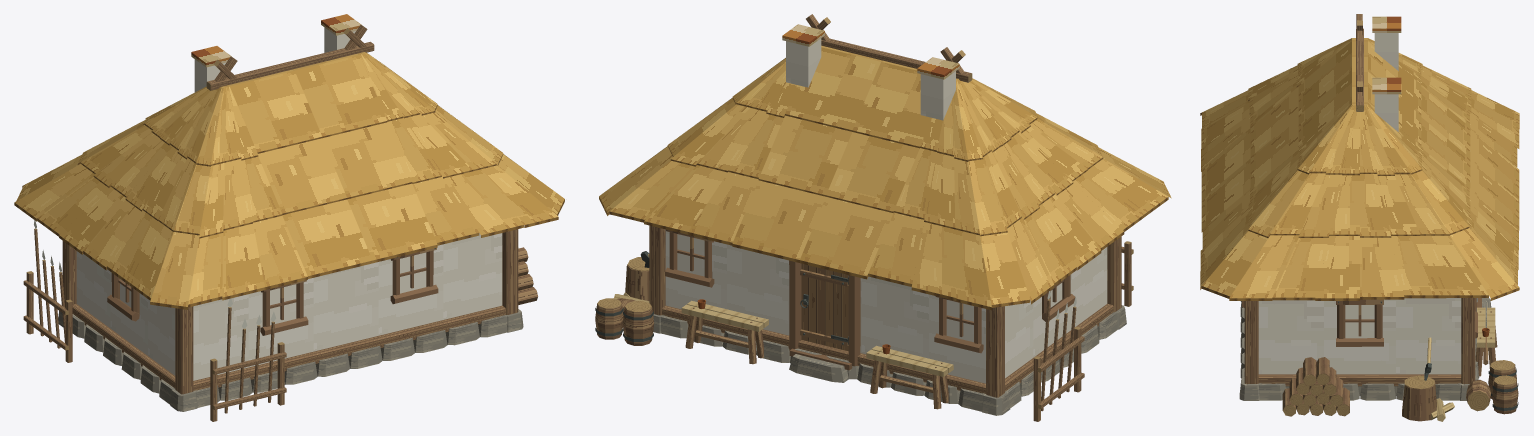
File: barracks.glb
3 renders of one model, left to right at view 1: azimuth 30°, elevation 25°; view 2: azimuth 150°, elevation 25°; view 3: azimuth 270°, elevation 25°, orthographic. The views are drawn at different scales.
Parts seen in each view (by area): view 1: Barracks; view 2: Barracks; view 3: Barracks.
Part boxes in pixels (box(x1,y1,x2,y2)): Barracks: box(14, 14, 564, 421); Barracks: box(595, 14, 1171, 421); Barracks: box(1200, 14, 1519, 421).
Bounding box in the file's own units: 11.1 × 7.01 × 7.45.
Materials: 1 (1 with a texture image).
